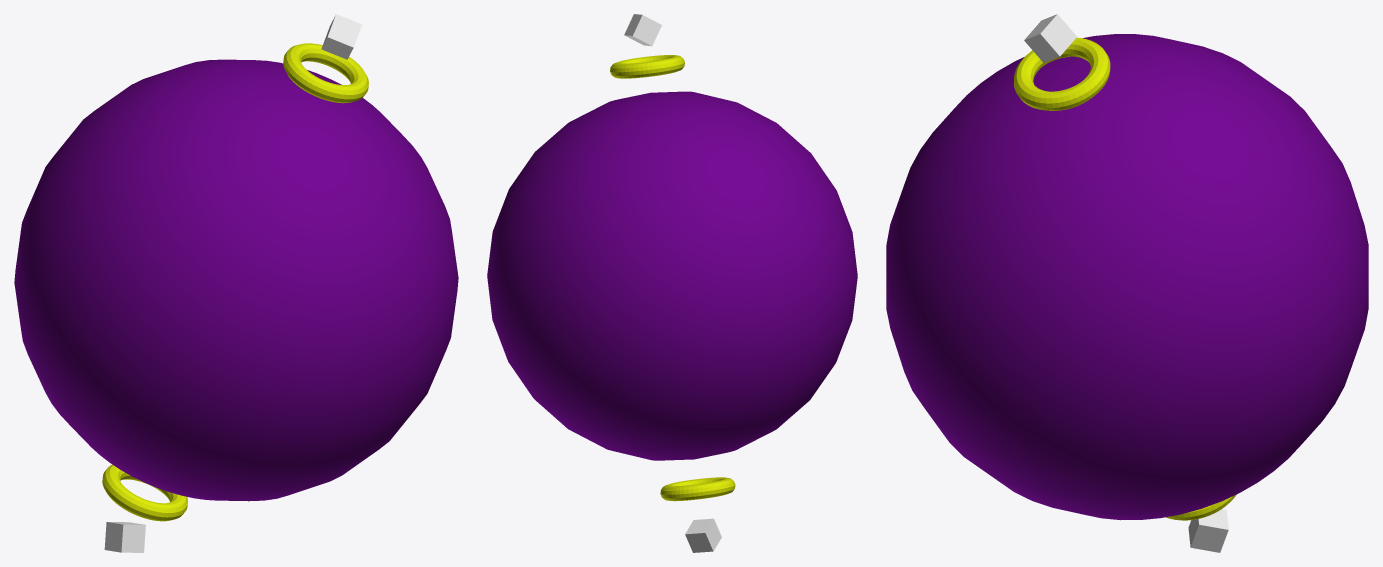
Rendered from ReloadSpheres.fbx.
3 renders of one model, left to right at view 1: azimuth 30°, elevation 25°; view 2: azimuth 150°, elevation 25°; view 3: azimuth 270°, elevation 25°, orthographic. The views are drawn at different scales.
Parts seen in each view (by area): view 1: Sphere; view 2: Sphere; view 3: Sphere.
Boxes of the visible parts, <box> form: Sphere: <box>14,14,458,552</box>; Sphere: <box>487,14,857,552</box>; Sphere: <box>886,14,1368,552</box>.
Size of the model in its own units: 205 by 287 by 206.
